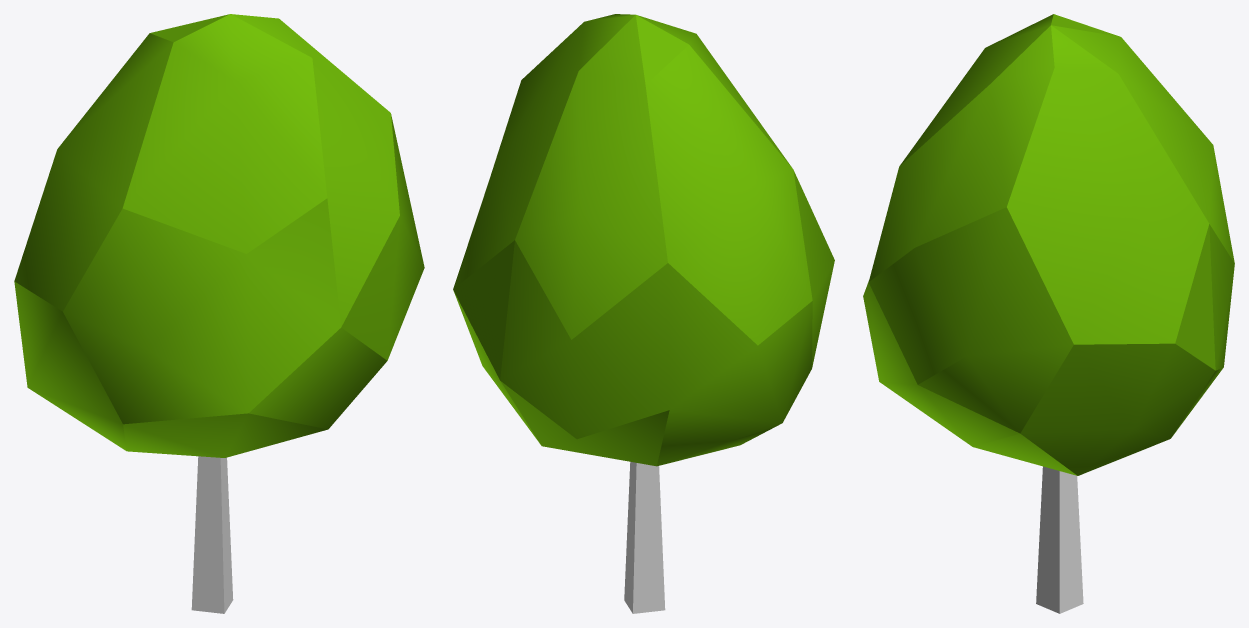
Rendered from MOD_Tree03.fbx.
3 views of the same model, side by side, from view 1: azimuth 30°, elevation 25°; view 2: azimuth 150°, elevation 25°; view 3: azimuth 270°, elevation 25° (orthographic).
Visible parts, largest first — view 1: MOD_Tree03; view 2: MOD_Tree03; view 3: MOD_Tree03.
Part boxes in pixels (x1=…): MOD_Tree03: x1=14, y1=14, x2=424, y2=613; MOD_Tree03: x1=453, y1=14, x2=834, y2=613; MOD_Tree03: x1=863, y1=14, x2=1234, y2=613.
Size of the model in its own units: 594 by 1020 by 587.
